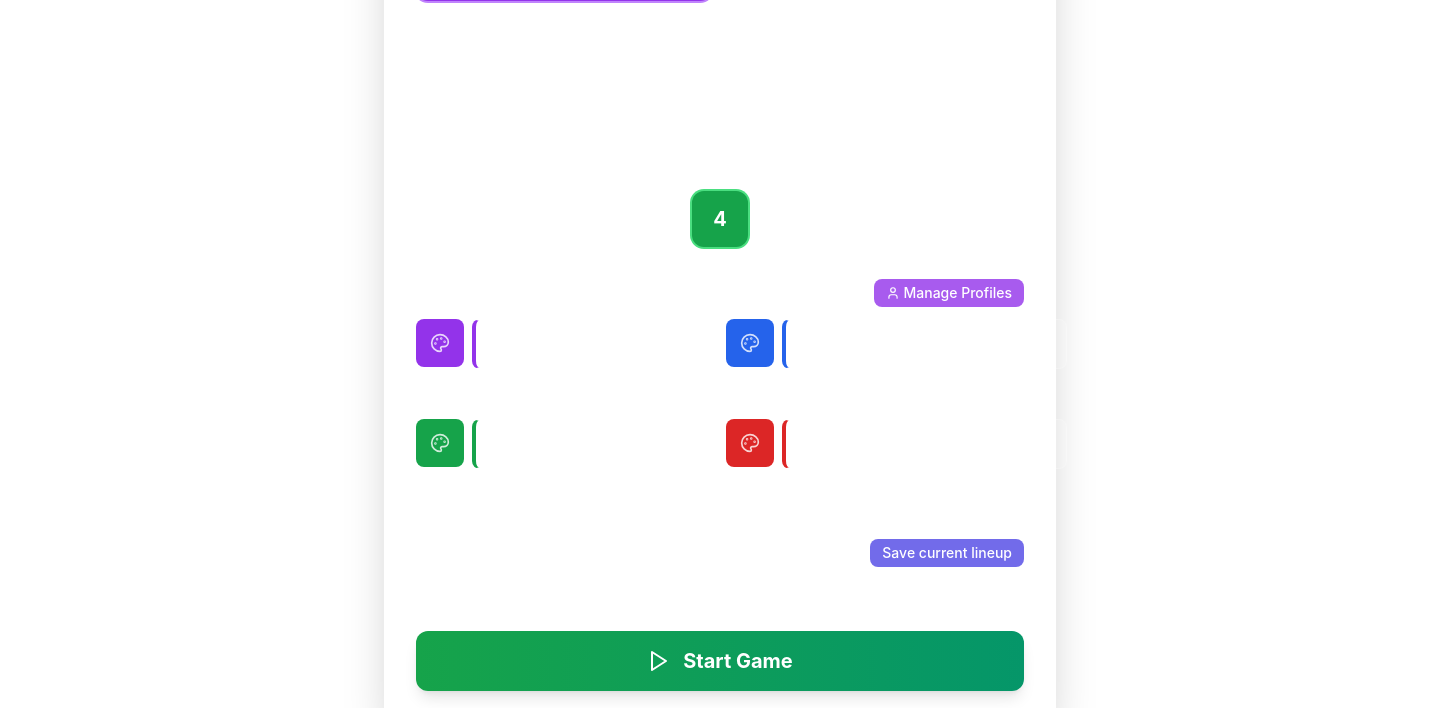
LifeCounter game flow › commander damage grid shows every opponent on the card
(page scrolled)
Click the button "Start Game".
click(720, 661)  # box [416, 631, 1024, 691]
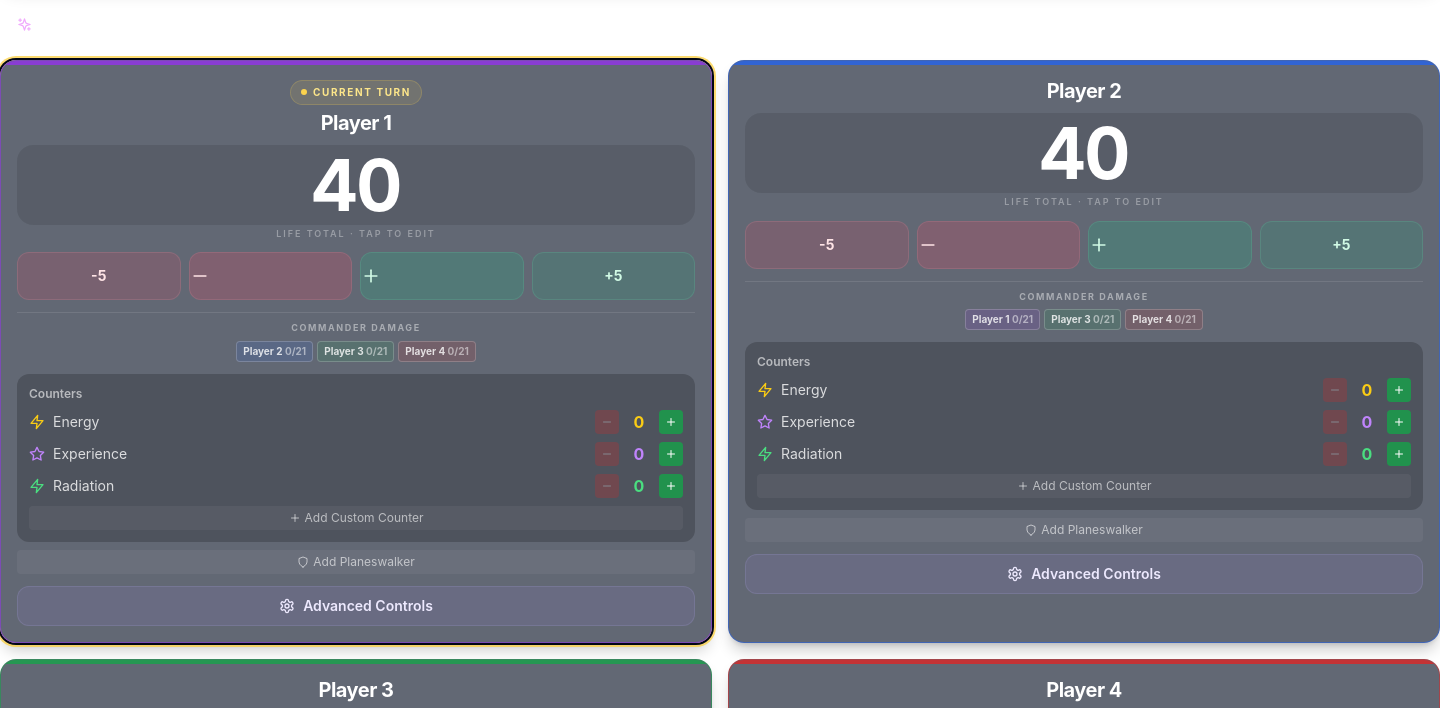
Result: the element with test id "commander-damage-grid-1" is shown at [17, 312, 695, 362]
Result: the button "Player 2 0/21" is shown at [236, 340, 313, 362]
Result: the button "Player 3 0/21" below "Current turn" is shown at [317, 340, 394, 362]
